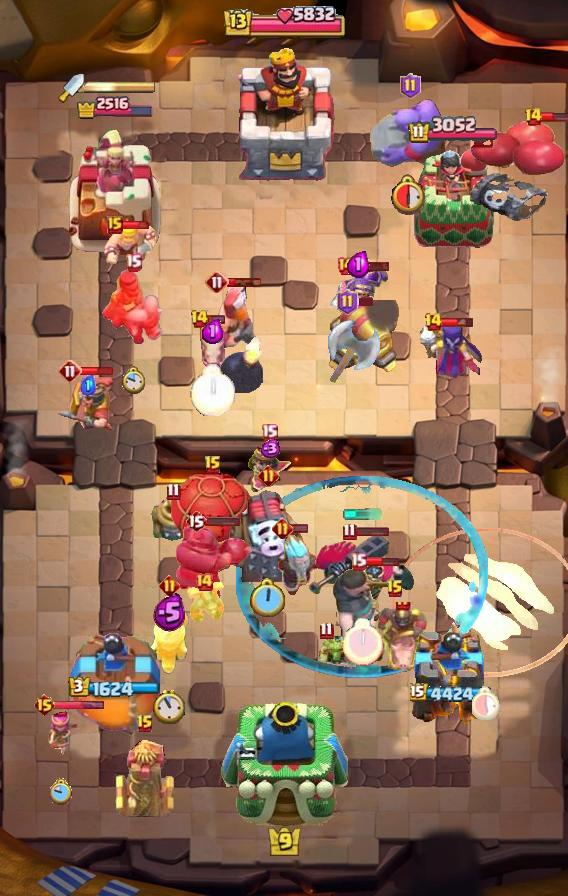archer: (101, 221, 157, 273)
archer-queen: (366, 97, 454, 177)
axe: (409, 319, 485, 381)
baby-dragon: (218, 335, 264, 393)
bar: (64, 124, 164, 256)
bomber-evolution: (246, 444, 292, 496)
cannon: (43, 708, 79, 756)
cannon-cart: (171, 470, 255, 572)
clock: (221, 3, 347, 43)
earthquake: (58, 373, 118, 435)
electro-spirit: (154, 593, 187, 632), (347, 250, 370, 278), (201, 320, 222, 345), (258, 439, 281, 457), (81, 375, 96, 395)
elite-barbarian: (101, 268, 165, 348), (148, 593, 190, 675)
elixir: (189, 364, 234, 416), (342, 618, 383, 666), (391, 173, 429, 215), (249, 578, 287, 620), (153, 688, 185, 723), (472, 686, 501, 720), (121, 365, 145, 394), (51, 779, 74, 806)
emote: (53, 700, 105, 711), (354, 260, 391, 272), (440, 316, 476, 328), (205, 515, 241, 527), (354, 525, 390, 537), (80, 365, 115, 377), (364, 556, 400, 567), (226, 276, 261, 287), (540, 111, 568, 123), (120, 220, 152, 230), (355, 297, 375, 308), (290, 523, 310, 534), (207, 315, 226, 326)
firecracker-evolution: (327, 262, 389, 309)
freeze: (361, 602, 429, 676)
giant: (196, 317, 228, 369)
goblin-brawler: (114, 738, 176, 822)
goblin-drill: (149, 493, 197, 543)
golem: (226, 490, 310, 582)
ice-spirit: (341, 508, 383, 520)
ice-wizard: (392, 527, 568, 677)
inferno-tower: (307, 530, 417, 626)
king-tower: (220, 702, 348, 827), (229, 43, 339, 181)
king-tower-bar: (84, 80, 156, 94)
mighty-miner: (204, 279, 262, 351)
mortar: (267, 534, 329, 600)
pad_0: (236, 475, 488, 679)
queen-tower: (410, 144, 496, 255), (411, 619, 495, 731), (68, 633, 160, 731)
royal-delivery: (183, 582, 225, 622)
royal-giant: (325, 317, 383, 389)
royal-guardian: (171, 523, 255, 605)
royal-hog: (329, 566, 405, 644)
royal-recruit: (324, 300, 402, 376)
royal-recruit-evolution: (466, 119, 568, 227)
selected: (407, 115, 499, 144), (68, 675, 160, 699), (74, 94, 154, 120), (410, 683, 496, 705)
text: (205, 270, 229, 294), (58, 359, 82, 383), (399, 73, 421, 99), (337, 289, 359, 315), (33, 693, 56, 717), (185, 509, 207, 533), (257, 465, 279, 487), (160, 575, 181, 597), (272, 518, 293, 539), (336, 256, 356, 276), (194, 572, 214, 592), (525, 107, 544, 127), (191, 309, 210, 329), (425, 312, 444, 332), (204, 455, 222, 475), (386, 579, 404, 599), (136, 714, 154, 734), (261, 423, 279, 441), (125, 253, 142, 272), (350, 553, 367, 571), (107, 216, 123, 234), (319, 621, 334, 639), (167, 483, 181, 501), (343, 523, 357, 541)
zap: (318, 632, 356, 676)
